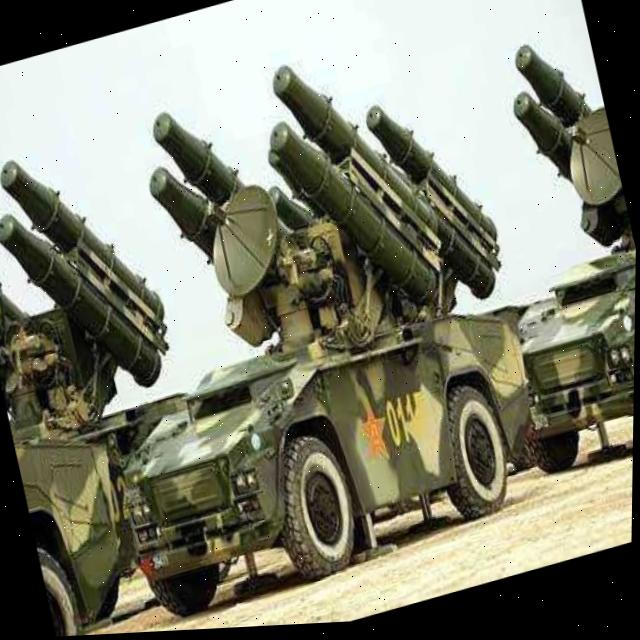missile: (267, 25, 495, 335), (269, 93, 440, 341), (0, 125, 170, 371), (0, 179, 172, 414), (359, 78, 500, 269), (499, 30, 614, 219), (145, 150, 257, 303), (150, 93, 269, 236)
